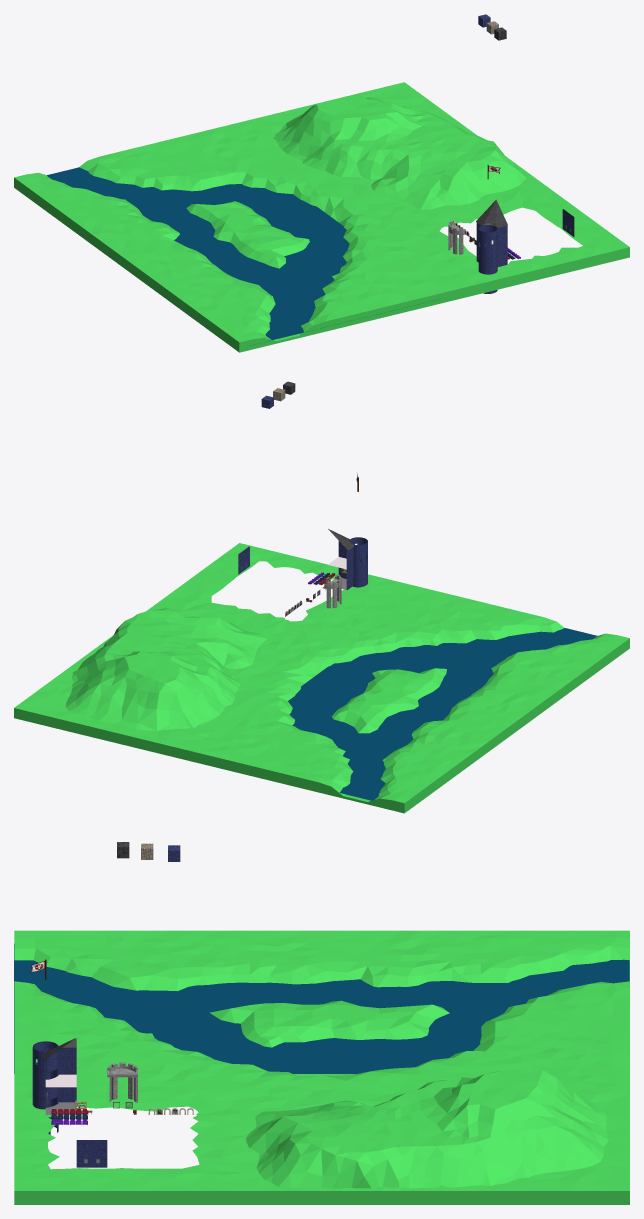
Rendered from testcastle1.glb.
3 views of the same model, one above another, from view 1: azimuth 30°, elevation 25°; view 2: azimuth 150°, elevation 25°; view 3: azimuth 270°, elevation 25° (orthographic). The views are drawn at different scales.
Parts seen in each view (by area): view 1: MT_River_L_a_04_R.002, WaterPlane, Roof.TurretCorner; view 2: MT_River_L_a_04_R.002, WaterPlane; view 3: MT_River_L_a_04_R.002, WaterPlane, Walls.TurretCap, Floor.Ceiling.1Wall.2Window.010, Balcony, Turret Entr.
Part boxes in pixels (left/top/right/bottom): MT_River_L_a_04_R.002: left=14, top=82, right=629, bottom=352; WaterPlane: left=47, top=167, right=437, bottom=345; Roof.TurretCorner: left=476, top=199, right=507, bottom=227; MT_River_L_a_04_R.002: left=14, top=543, right=629, bottom=813; WaterPlane: left=288, top=628, right=597, bottom=800; MT_River_L_a_04_R.002: left=14, top=930, right=629, bottom=1204; WaterPlane: left=14, top=944, right=629, bottom=1073; Walls.TurretCap: left=45, top=1047, right=76, bottom=1087; Floor.Ceiling.1Wall.2Window.010: left=76, top=1140, right=107, bottom=1167; Balcony: left=107, top=1062, right=137, bottom=1102; Turret Entr: left=45, top=1087, right=76, bottom=1114.
Size of what is drawn, in the model's own units: 200 by 112 by 200.
Materials: 43 (19 with a texture image).
